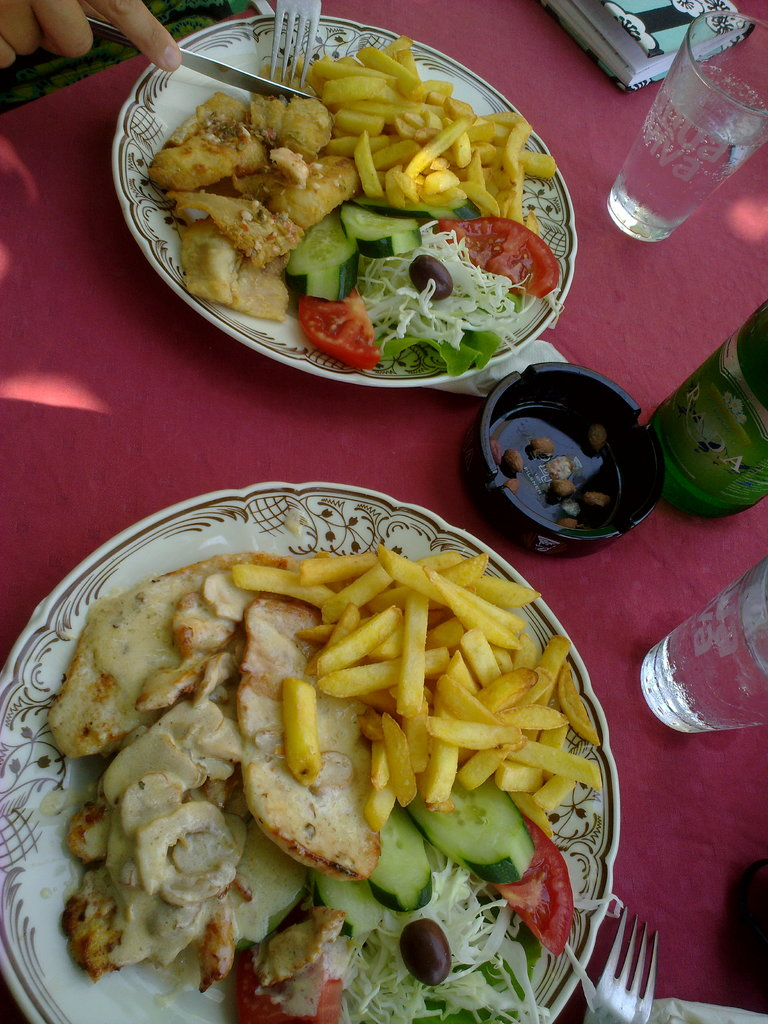French fries: (229, 553, 603, 833), (314, 39, 549, 209)
